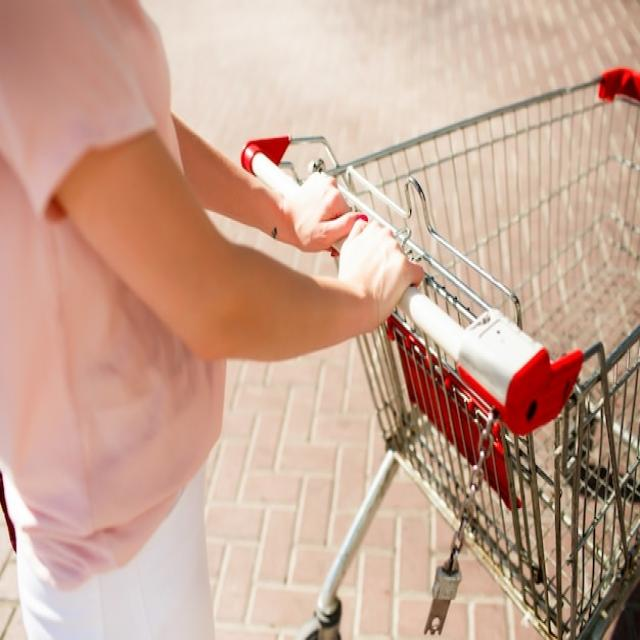Person: (0, 0, 424, 640)
